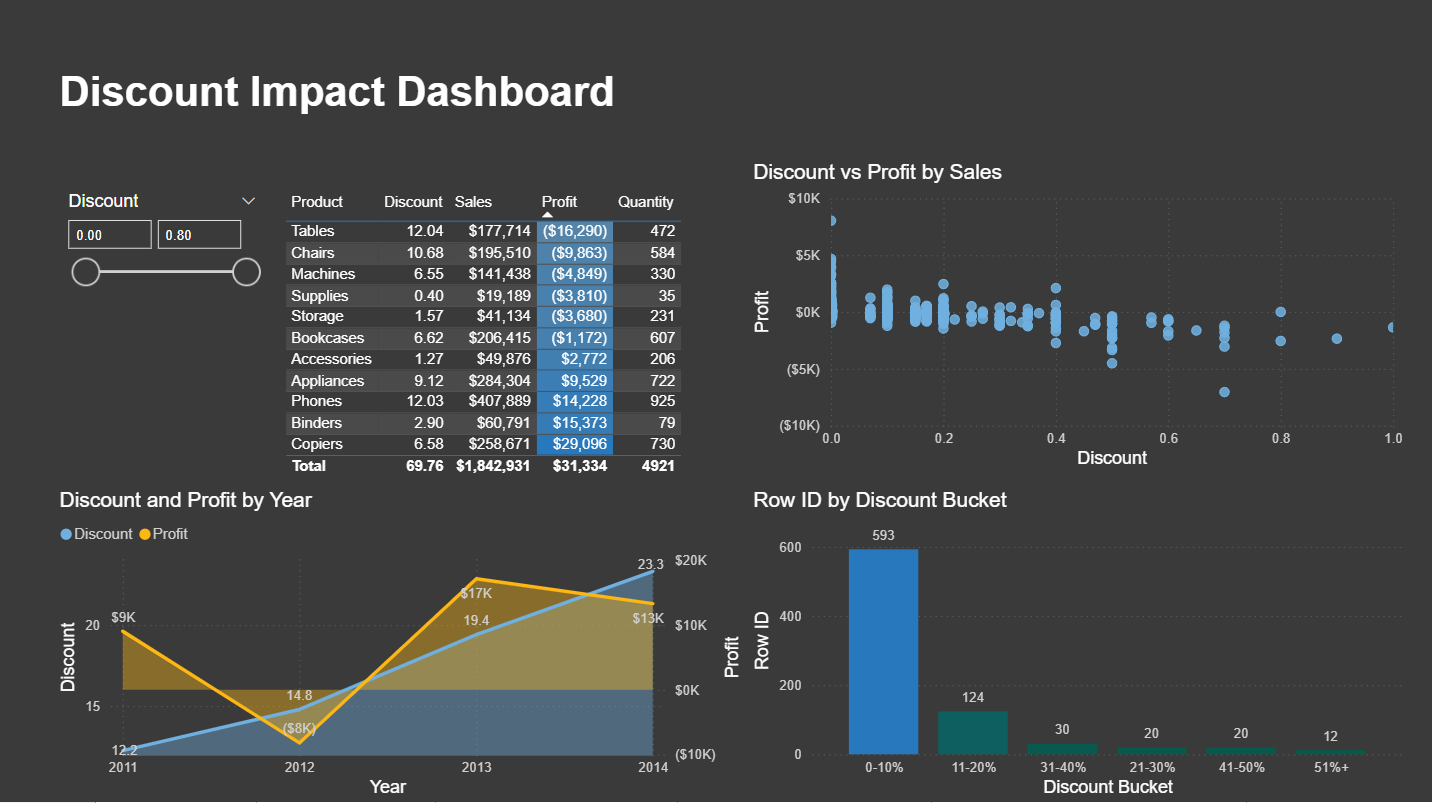

What the dashboard file says about the page in this screenshot:
{"tool":"powerbi","page":{"name":"Discount Impact Dashboard","canvas":[1280,720],"ordinal":5},"visuals":[{"type":"scatterChart","title":"Discount vs Profit by Sales","fields":{"X":["Sum(Global-Superstore.Discount)"],"Y":["Sum(Global-Superstore.Profit)"],"Category":["Global-Superstore.Sales"]},"box":[668.6,146.5,590.7,280.2],"z":0},{"type":"columnChart","fields":{"Category":["Global-Superstore.Discount Bucket"],"Y":["CountNonNull(Global-Superstore.Row ID)"]},"box":[668.6,439.5,590.7,280.2],"z":1000},{"type":"lineChart","fields":{"Category":["Global-Superstore.Order Date.Variation.Date Hierarchy.Year"],"Y":["Sum(Global-Superstore.Discount)"],"Y2":["Sum(Global-Superstore.Profit)"]},"box":[48.8,439.5,619.8,280.2],"z":2000},{"type":"slicer","fields":{"Values":["Global-Superstore.Discount"]},"box":[48.8,169.8,193,257],"z":3000},{"type":"tableEx","fields":{"Values":["Global-Superstore.Sub-Category","Sum(Global-Superstore.Discount)","Sum(Global-Superstore.Sales)","Sum(Global-Superstore.Profit)","Sum(Global-Superstore.Quantity)"]},"box":[250,169.8,418.6,269.8],"z":4000},{"type":"textbox","box":[48.8,59.3,539.5,75.6],"z":5000}]}

Visuals, with their boxes in screenshot pixels (x1, y1, x2, y2), scaled from the page's 1280x720 canvas onto the 1432x803 screenshot:
"Discount vs Profit by Sales" scatterChart: left=748, top=163, right=1409, bottom=476
columnChart - Global-Superstore.Discount Bucket x CountNonNull(Global-Superstore.Row ID): left=748, top=490, right=1409, bottom=802
lineChart - Global-Superstore.Order Date.Variation.Date Hierarchy.Year x Sum(Global-Superstore.Discount): left=55, top=490, right=748, bottom=802
slicer - Global-Superstore.Discount: left=55, top=189, right=271, bottom=476
tableEx - Global-Superstore.Sub-Category x Sum(Global-Superstore.Discount): left=280, top=189, right=748, bottom=490
textbox: left=55, top=66, right=658, bottom=150
